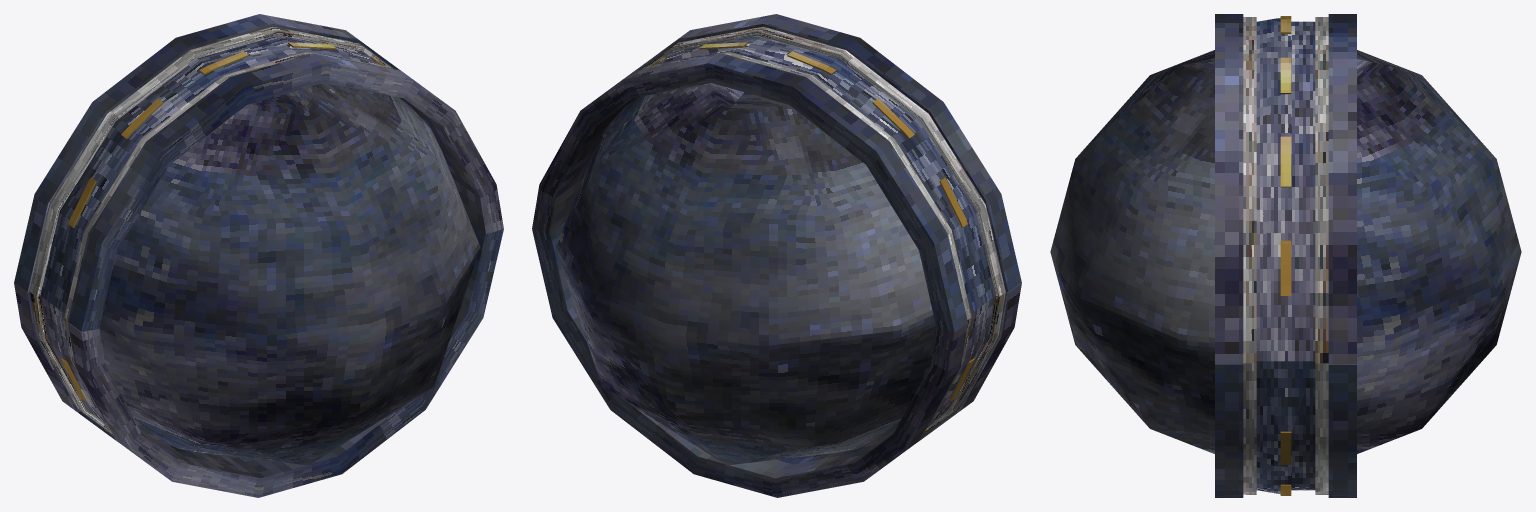
The model's file is PLANETTT.fbx.
The picture shows the model from 3 angles, left to right: view 1: azimuth 30°, elevation 25°; view 2: azimuth 150°, elevation 25°; view 3: azimuth 270°, elevation 25°; orthographic projection. The views are drawn at different scales.
Visible parts, largest first — view 1: pPlatonic1, polySurface3, polySurface4; view 2: pPlatonic1, polySurface3, polySurface4; view 3: pPlatonic1, polySurface3, polySurface4.
Boxes of the visible parts, bbox=[...] form: pPlatonic1: bbox=[99, 83, 480, 465]; polySurface3: bbox=[14, 14, 503, 331]; polySurface4: bbox=[14, 222, 503, 497]; pPlatonic1: bbox=[555, 83, 936, 465]; polySurface3: bbox=[532, 14, 1021, 331]; polySurface4: bbox=[532, 222, 1021, 497]; pPlatonic1: bbox=[1050, 50, 1521, 453]; polySurface3: bbox=[1215, 14, 1356, 364]; polySurface4: bbox=[1215, 361, 1356, 497].
Size of the model in its own units: 419 by 396 by 385.
